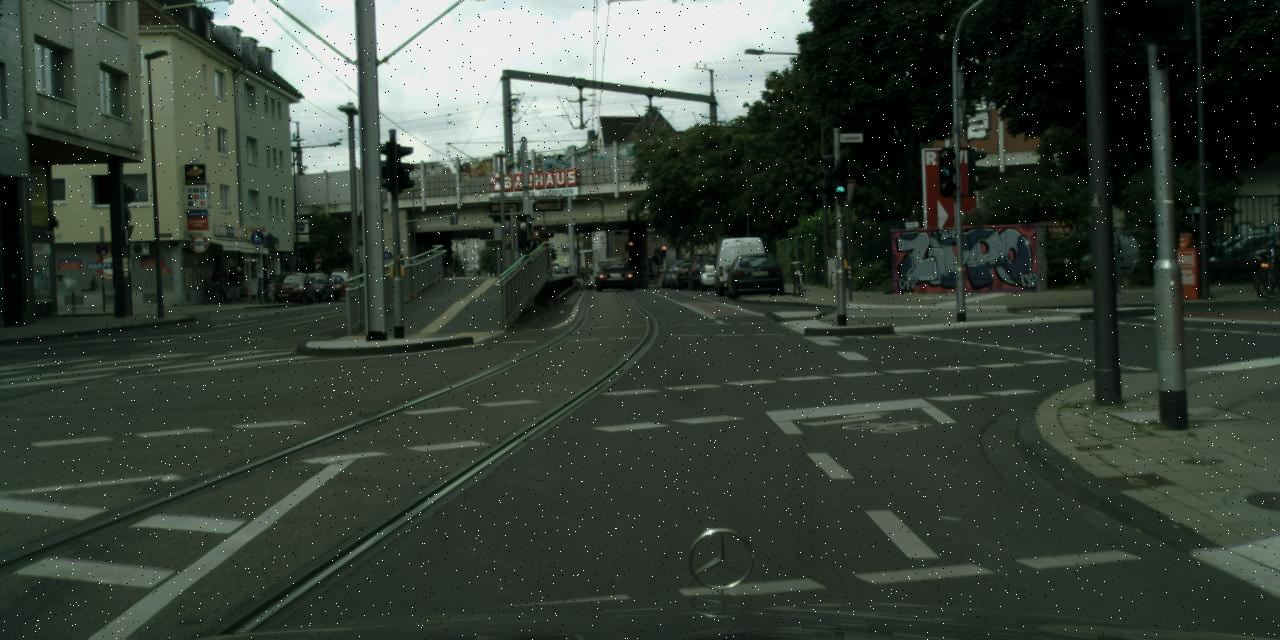ped: (526, 232, 544, 276), (213, 267, 227, 302)
